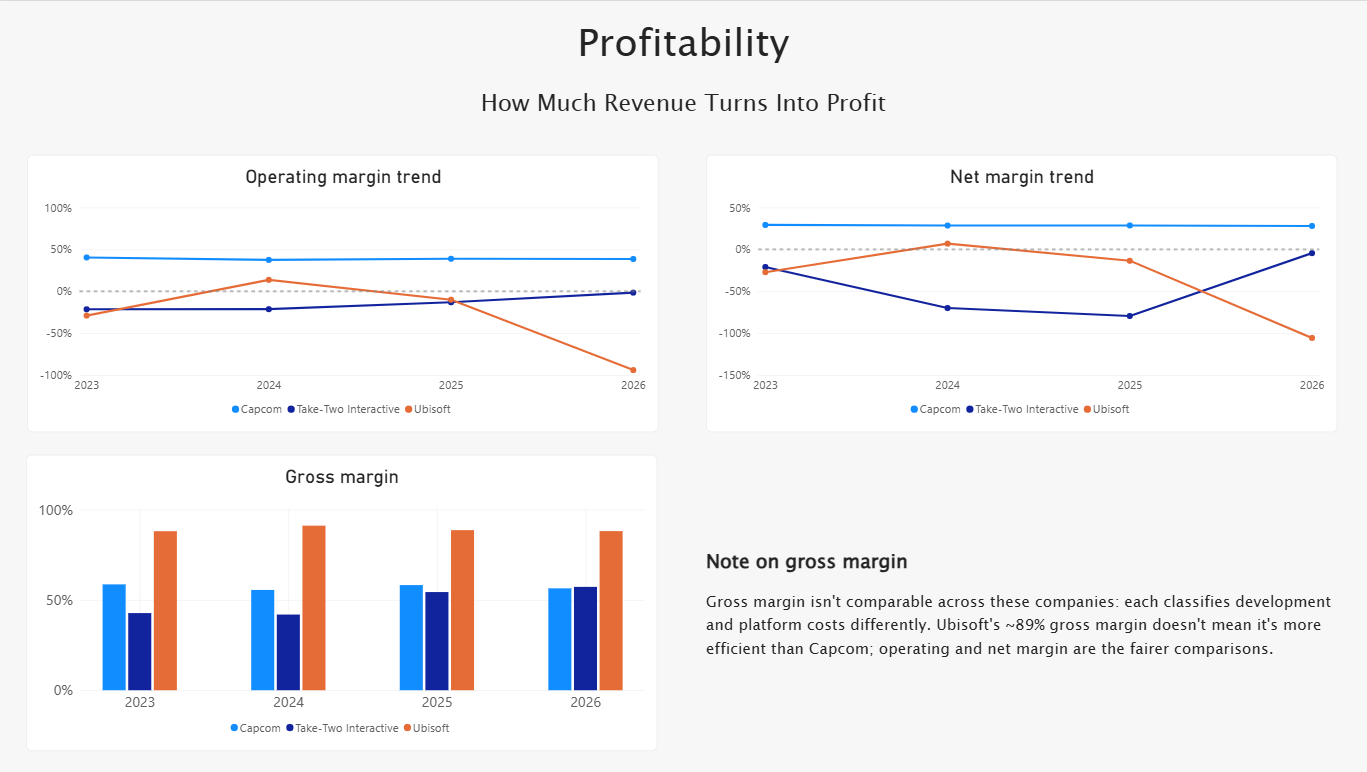

Layout of this report page (visuals, bound fields, positions):
{"tool":"powerbi","page":{"name":"Profitability","canvas":[1920,1080],"ordinal":1},"visuals":[{"type":"textbox","box":[207.6,0,1503.5,214.5],"z":0},{"type":"lineChart","title":"Operating margin trend","fields":{"Category":["Years.Year"],"Series":["public companies.company_name"],"Y":["Avg(public profitability.operating_margin)"]},"box":[43.6,214.5,880.8,387.2],"z":1000},{"type":"lineChart","title":"Net margin trend","fields":{"Category":["Years.Year"],"Series":["public companies.company_name"],"Y":["Avg(public profitability.net_margin)"]},"box":[990.7,214.5,880.8,387.2],"z":2000},{"type":"clusteredColumnChart","title":"Gross margin","fields":{"Category":["Years.Year"],"Series":["public companies.company_name"],"Y":["Avg(public profitability.gross_margin)"]},"box":[41.9,633.1,880.8,413.4],"z":3000},{"type":"textbox","box":[990.7,633.1,896.5,413.4],"z":4000}]}

Visuals, with their boxes in screenshot pixels (x1, y1, x2, y2), scaled from the page's 1920x1080 canvas onto the 1367x772 screenshot:
textbox: 148 0 1218 153
"Operating margin trend" lineChart: 31 153 658 430
"Net margin trend" lineChart: 705 153 1332 430
"Gross margin" clusteredColumnChart: 30 453 657 748
textbox: 705 453 1344 748
